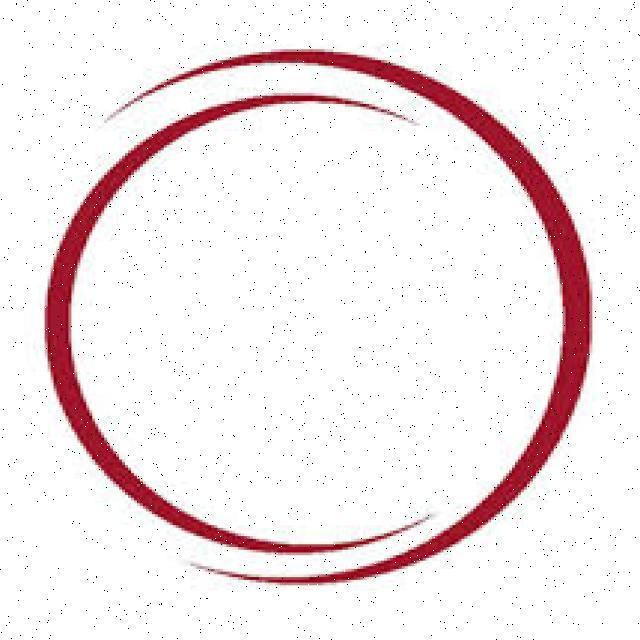Circle: (43, 46, 593, 585)
